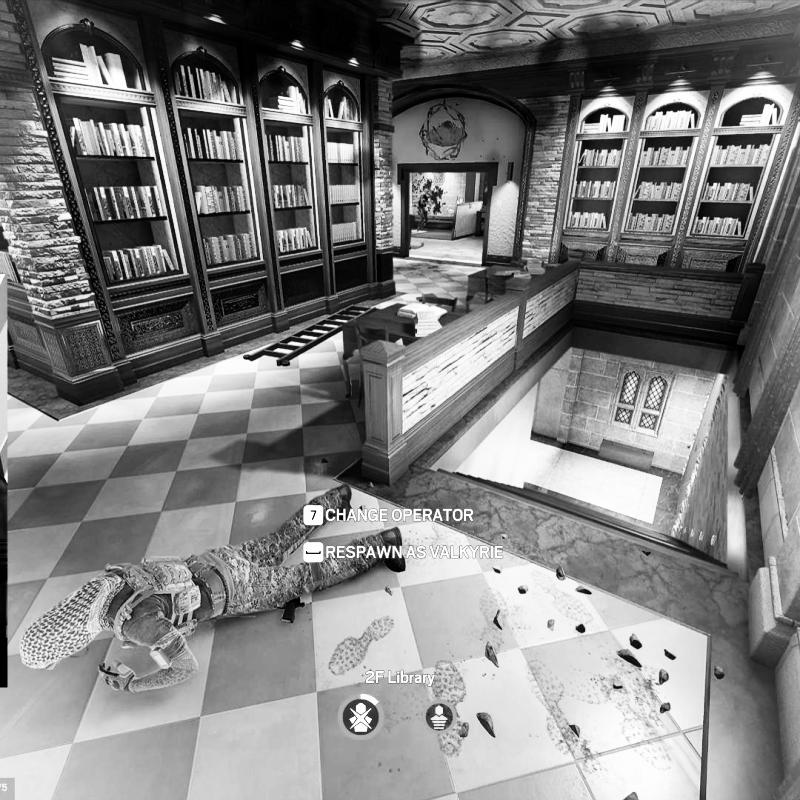Character: (1, 493, 394, 684), (416, 191, 431, 230)
Head: (20, 591, 97, 669), (426, 191, 430, 197)
